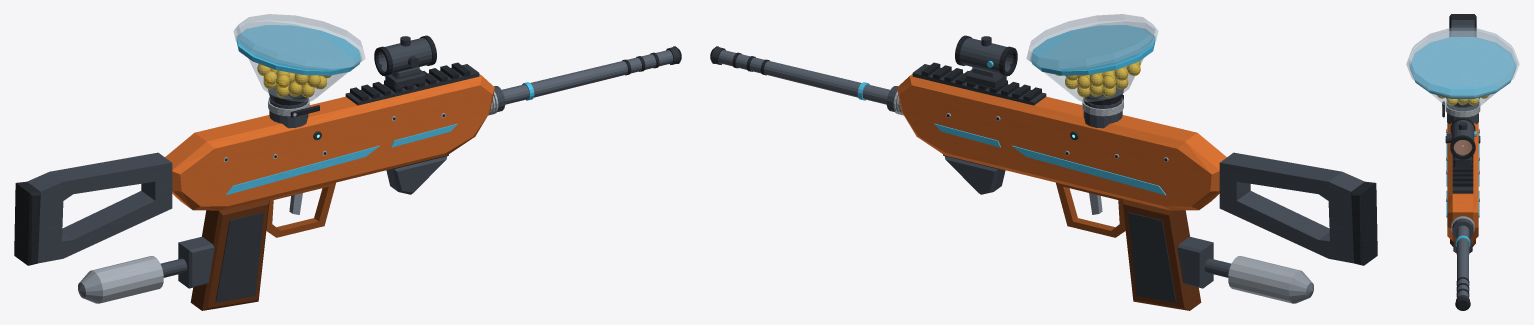
The model's file is raptor_factory_v2.glb.
3 views of the same model, side by side, from view 1: azimuth 30°, elevation 25°; view 2: azimuth 150°, elevation 25°; view 3: azimuth 270°, elevation 25° (orthographic). The views are drawn at different scales.
Parts seen in each view (by area): view 1: body, stock, hopper_shell, tank, barrel, sight_mesh, grip; view 2: body, stock, hopper_shell, tank, barrel, sight_mesh, grip; view 3: hopper_shell, body, barrel, sight_mesh, stock.
Part boxes in pixels (box(x1,y1,x2,y2)): body: box(165, 62, 494, 310); stock: box(14, 152, 172, 265); hopper_shell: box(233, 14, 365, 105); tank: box(78, 256, 187, 303); barrel: box(488, 46, 681, 115); sight_mesh: box(374, 35, 436, 88); grip: box(386, 154, 448, 194); body: box(897, 62, 1226, 310); stock: box(1219, 152, 1377, 265); hopper_shell: box(1026, 14, 1158, 105); tank: box(1204, 256, 1313, 303); barrel: box(710, 46, 903, 115); sight_mesh: box(955, 35, 1017, 88); grip: box(943, 154, 1005, 194); hopper_shell: box(1406, 27, 1519, 111); body: box(1442, 101, 1480, 246); barrel: box(1451, 216, 1474, 310); sight_mesh: box(1446, 117, 1476, 167); stock: box(1449, 14, 1476, 36).
Size of the model in its own units: 0.9305 by 0.3509 by 0.166.
Materials: 21 (15 with a texture image).
